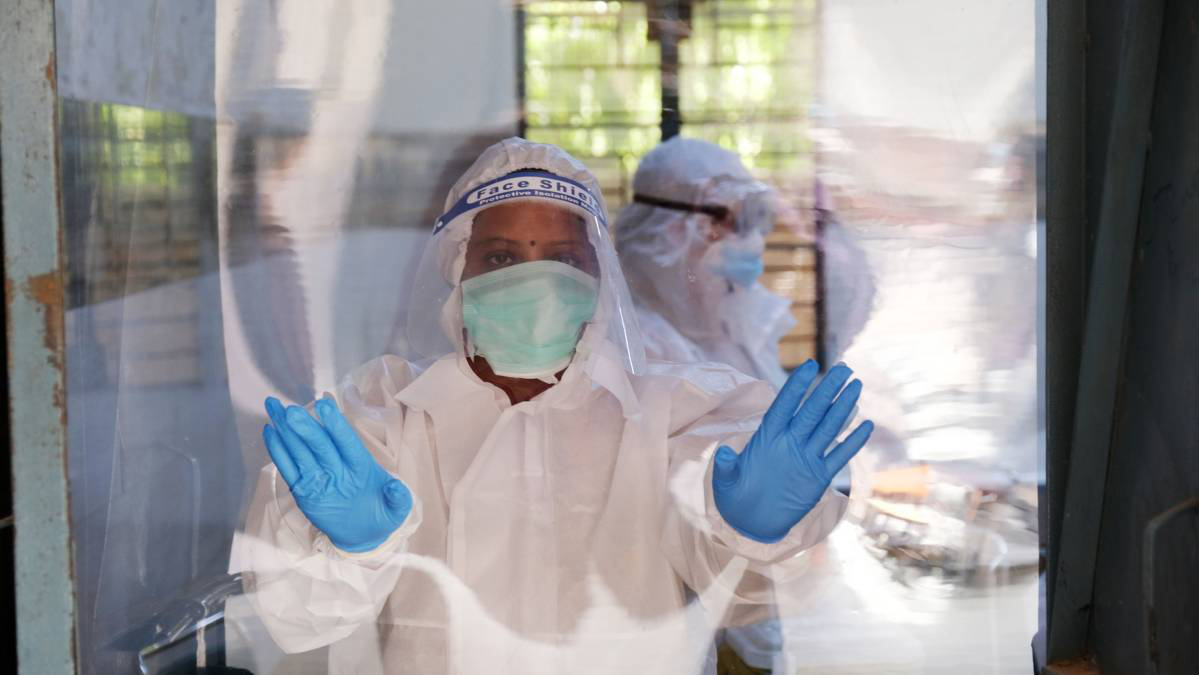Coverall: (246, 146, 855, 675)
Face_Shield: (389, 155, 639, 375)
Gloves: (711, 357, 876, 547), (259, 395, 414, 554)
Goggles: (699, 186, 776, 238)
Mask: (461, 233, 599, 387), (713, 197, 778, 285)
